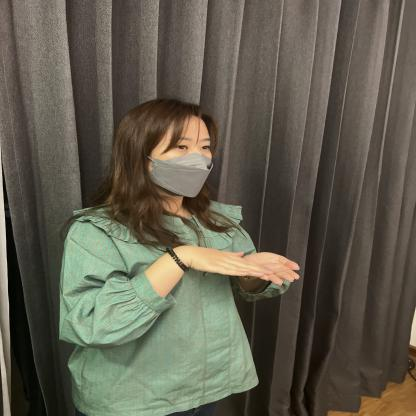Love: (42, 185, 409, 374)
